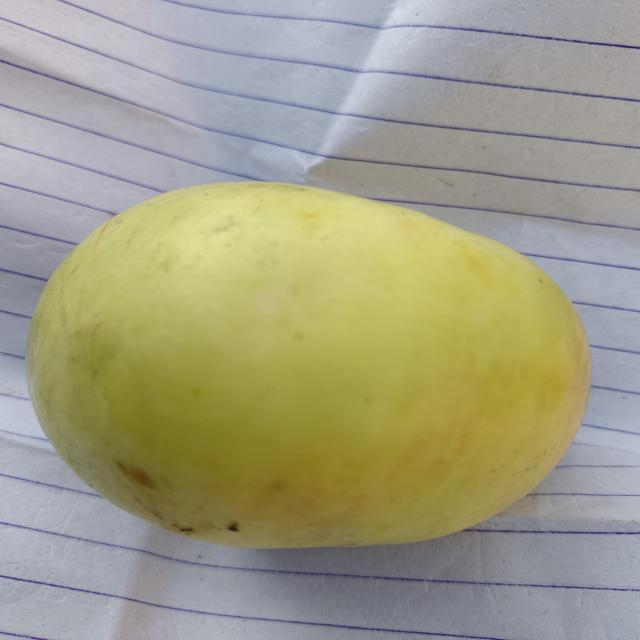Fresh Apple: (48, 178, 585, 567)
